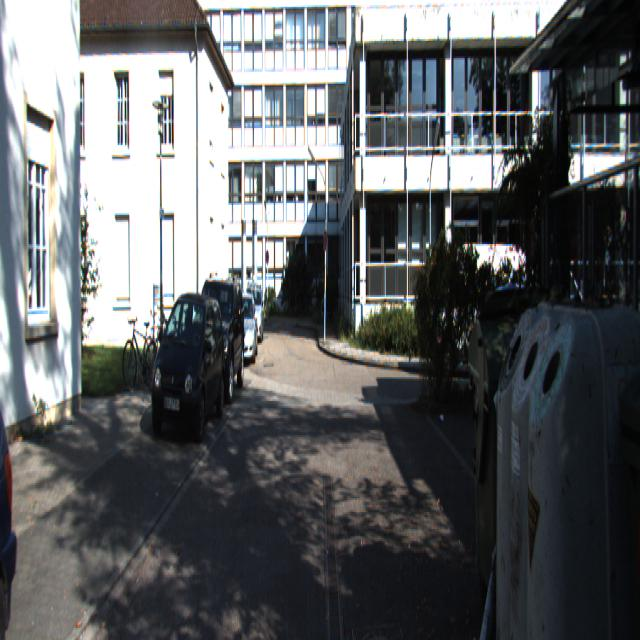Car: (147, 294, 226, 448), (188, 269, 246, 409), (228, 291, 258, 364)
